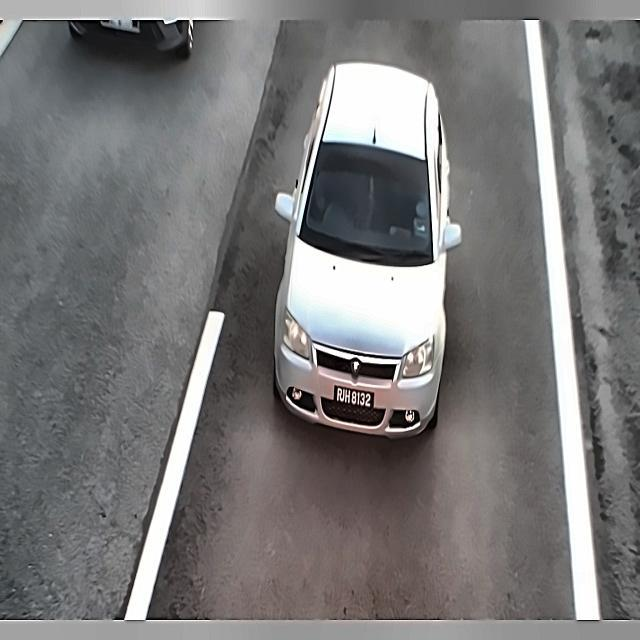car: (333, 379, 374, 419)
